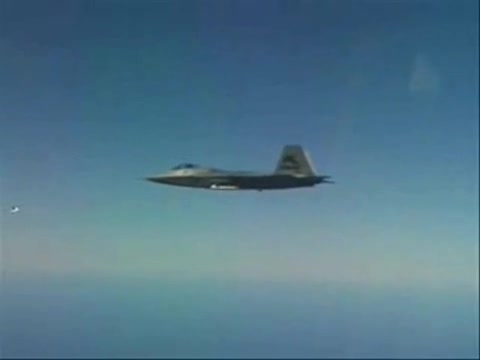aeroplane: (139, 146, 334, 196)
